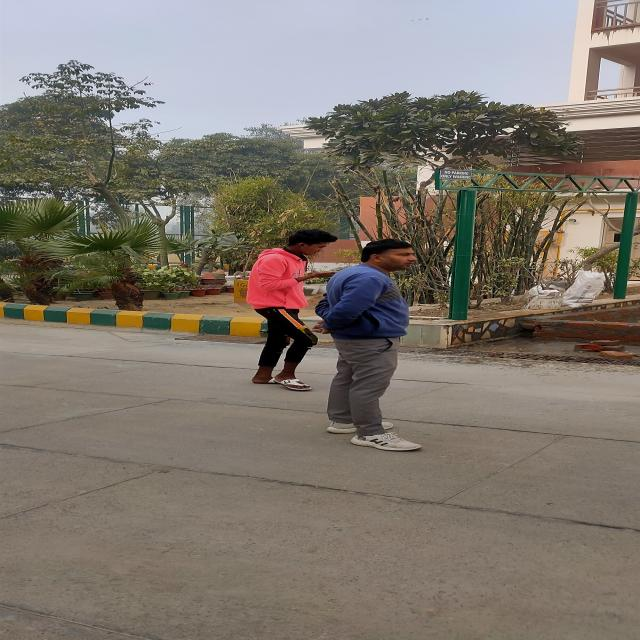unsafe: (321, 238, 419, 450), (245, 228, 329, 390)
